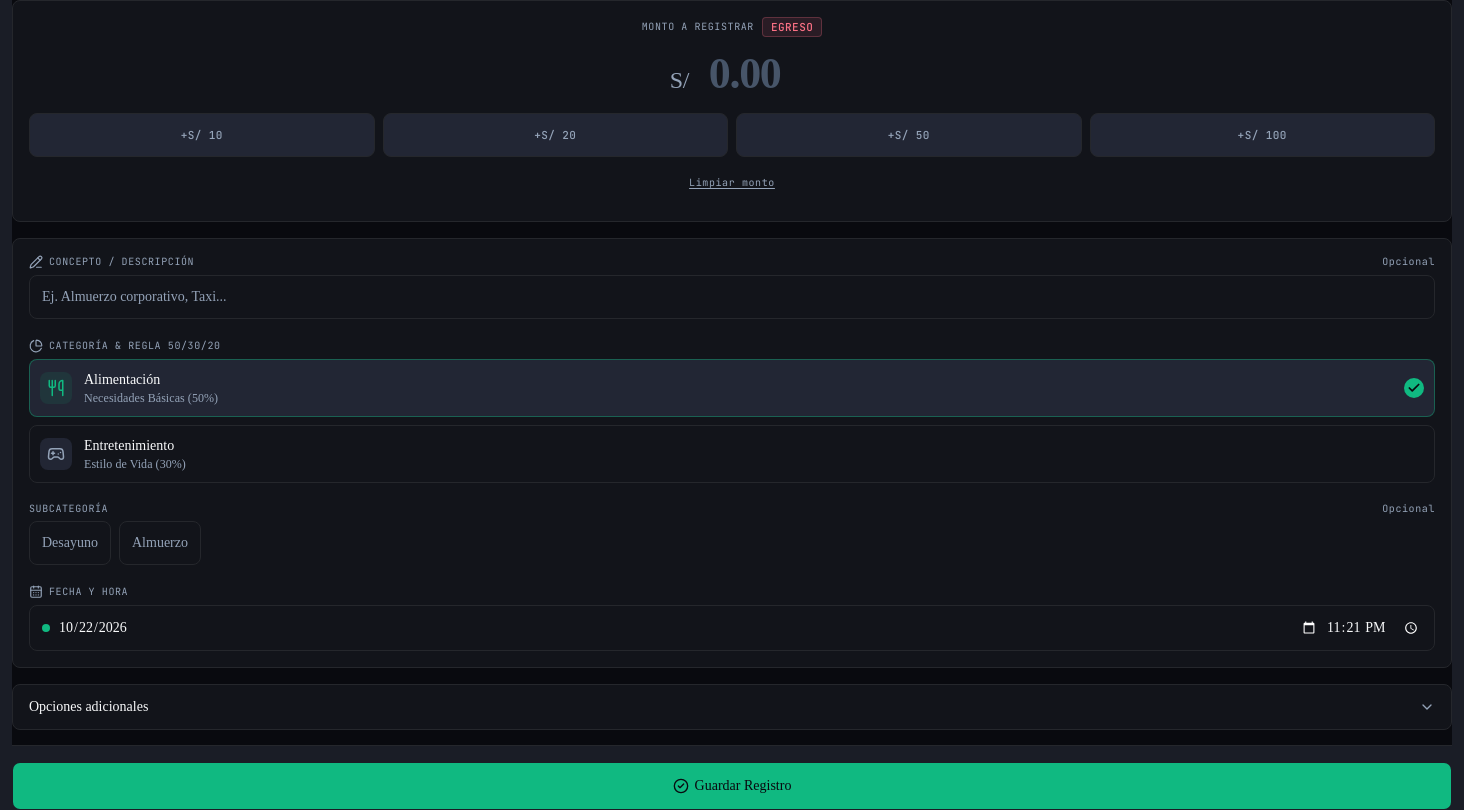
Test: MovementForm › quick record redesign (spec 010) › adds the quick amounts in integer cents and clears them
The image size is (1464, 810).
Click the button named "Sumar S/ 10": (202, 135) [29,113,374,157]
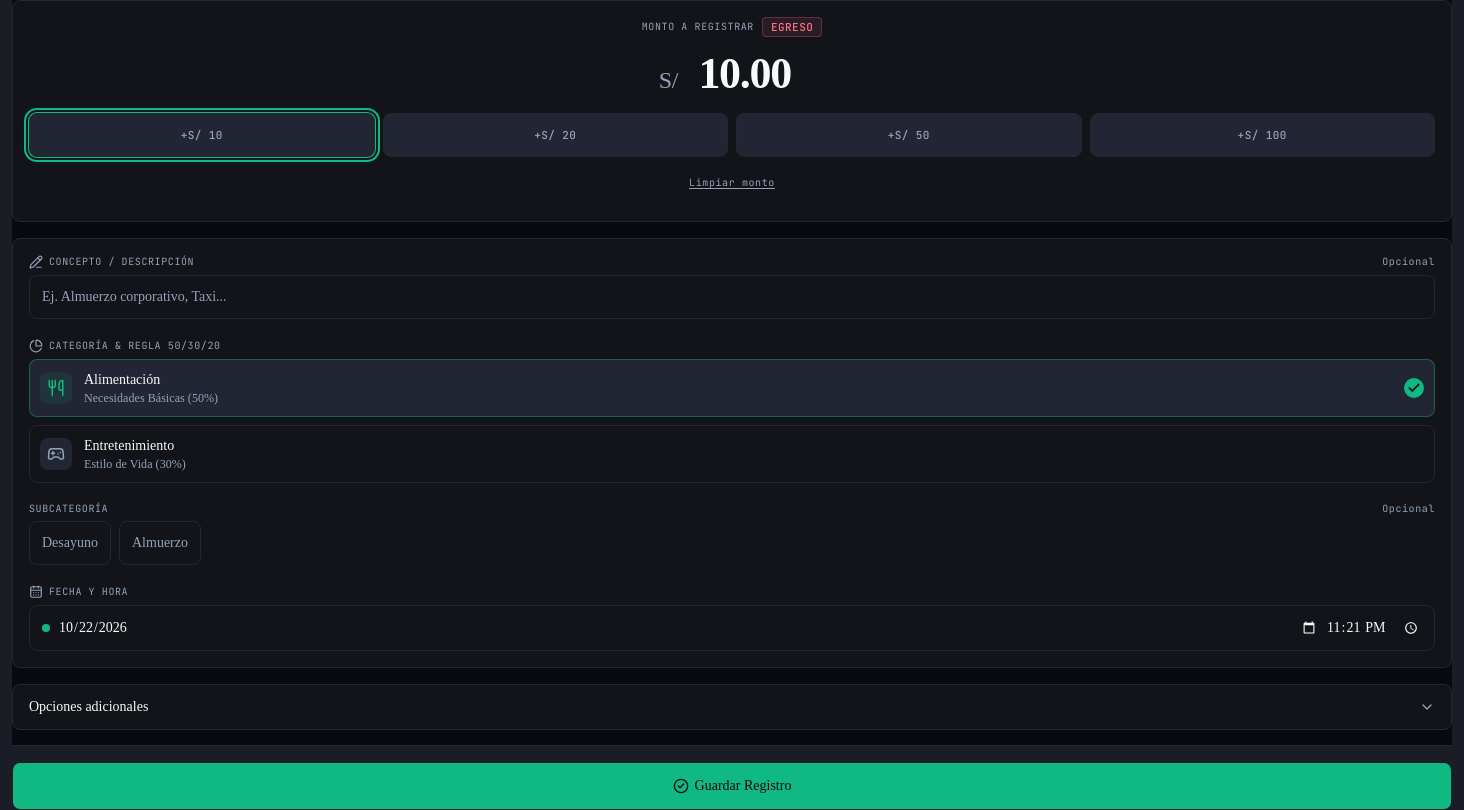
Click the button named "Sumar S/ 20": (555, 135) [382,113,728,157]
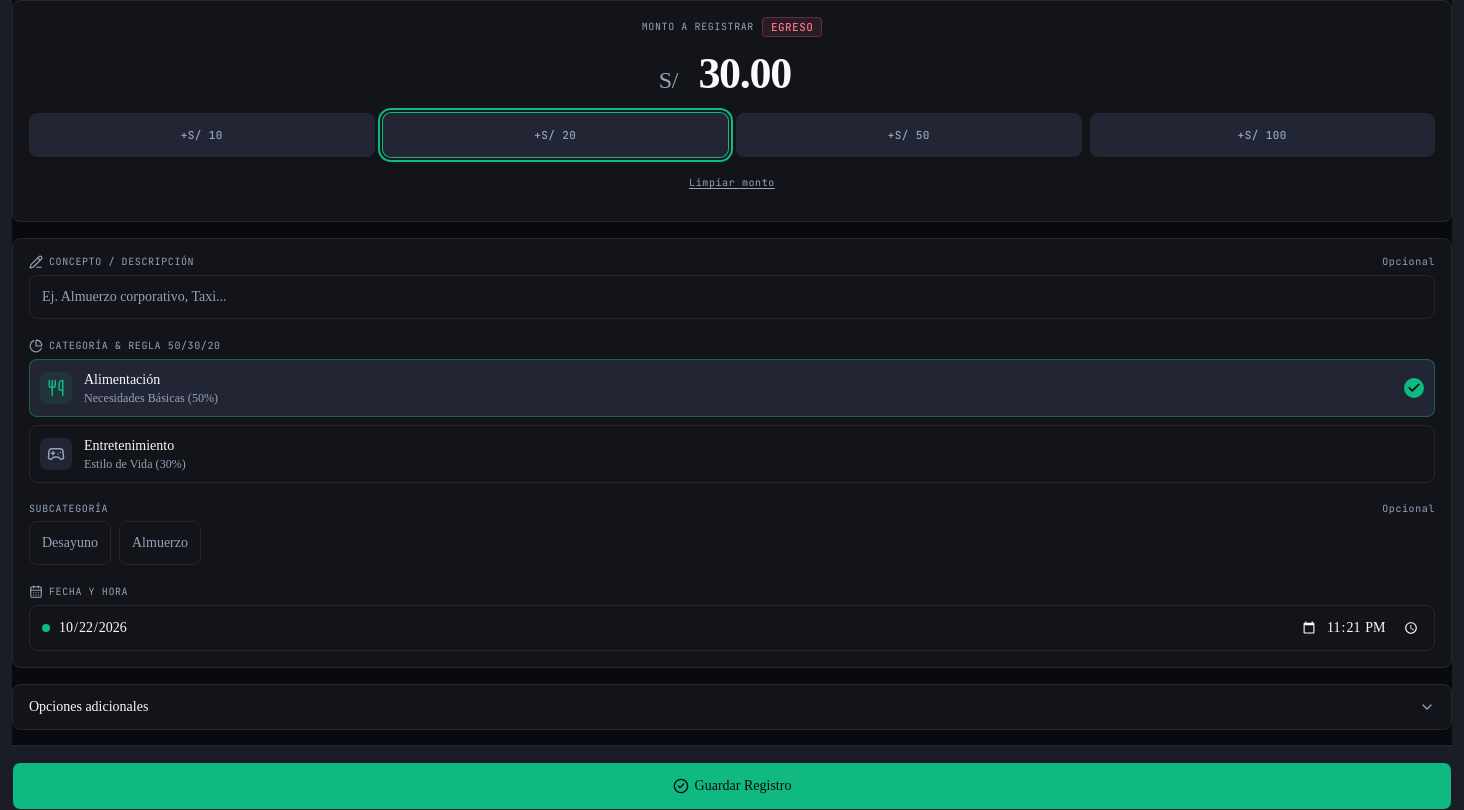
Click the button named "Sumar S/ 100": (1262, 135) [1090,113,1435,157]
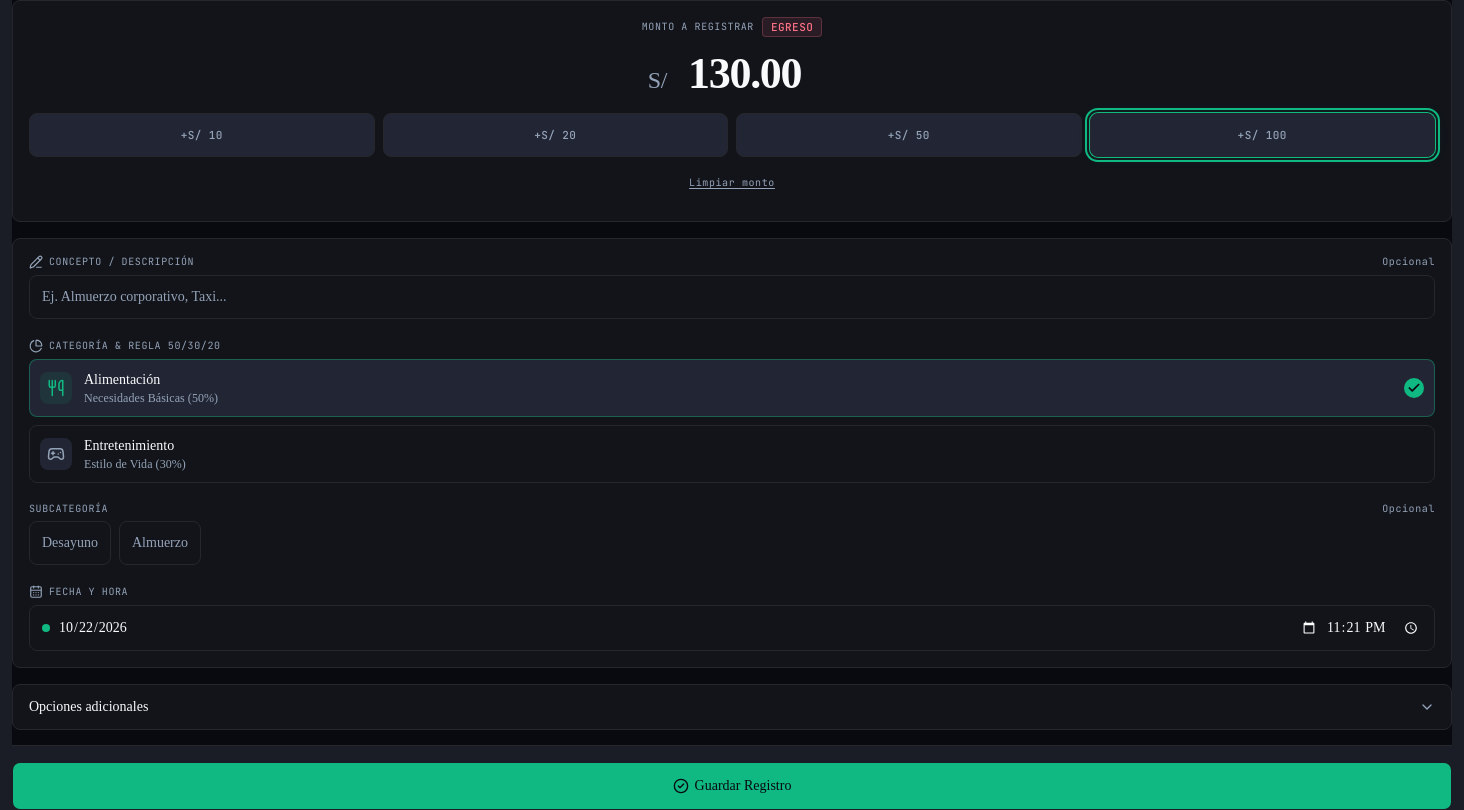
Result: the field named "Monto" holds "130.00" at [673,45,816,101]
Click the button "Limpiar monto": (732, 183) [677,161,787,205]
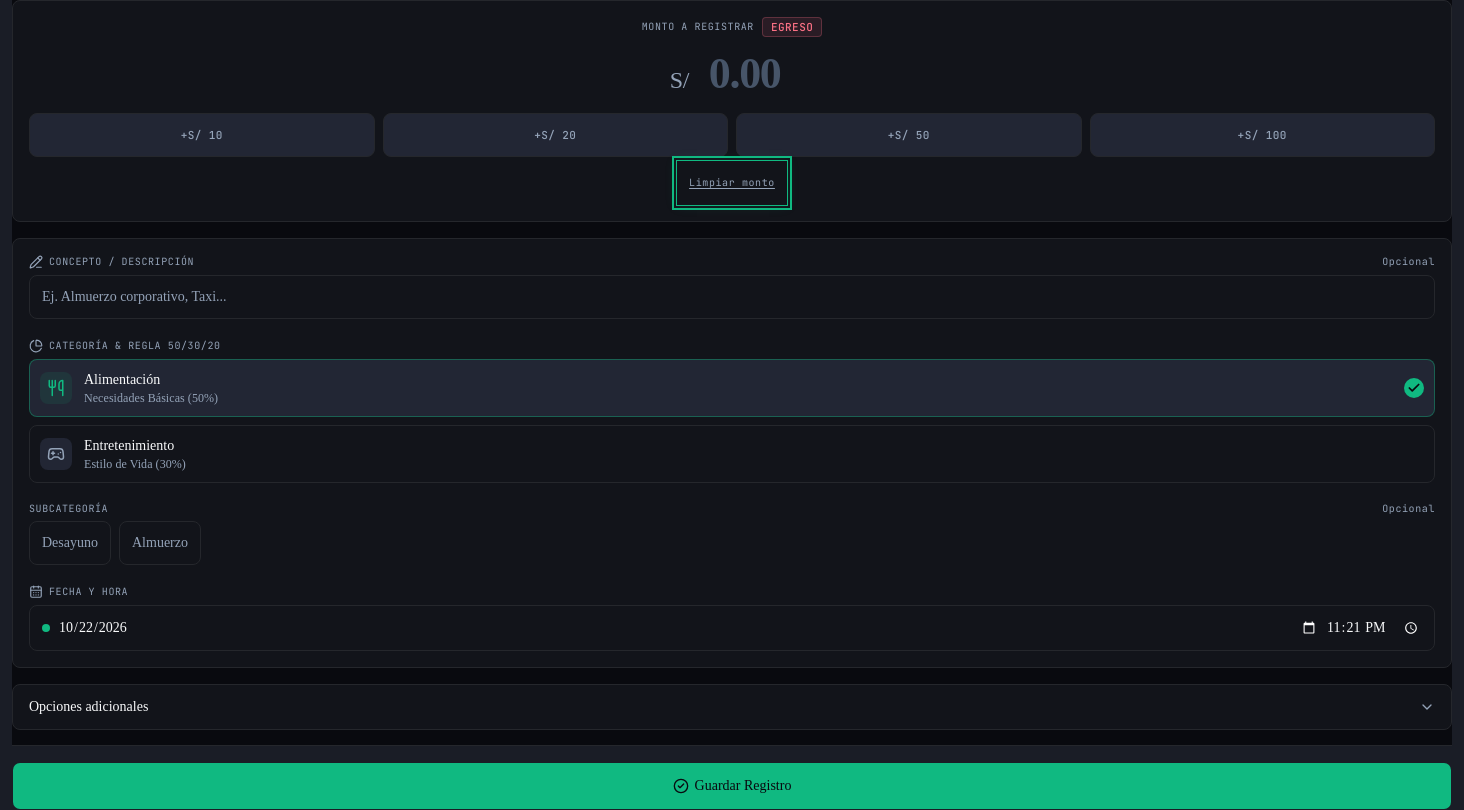
Result: the field named "Monto" is empty at [695,45,794,101]
